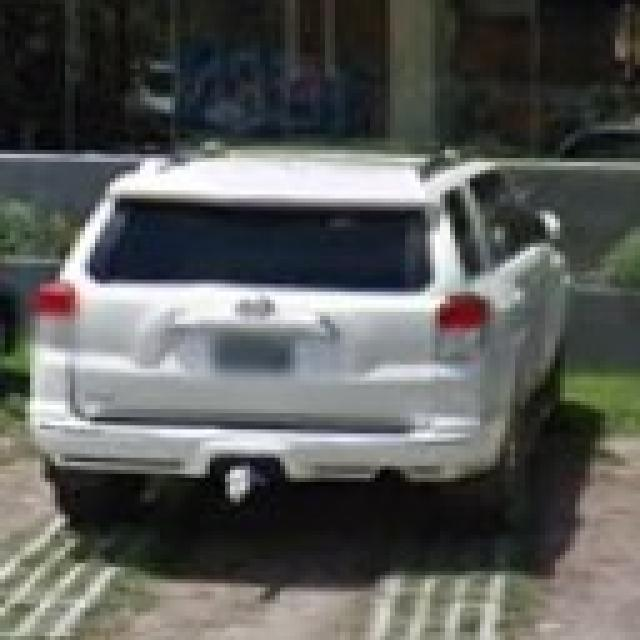cars: (30, 161, 578, 524)
